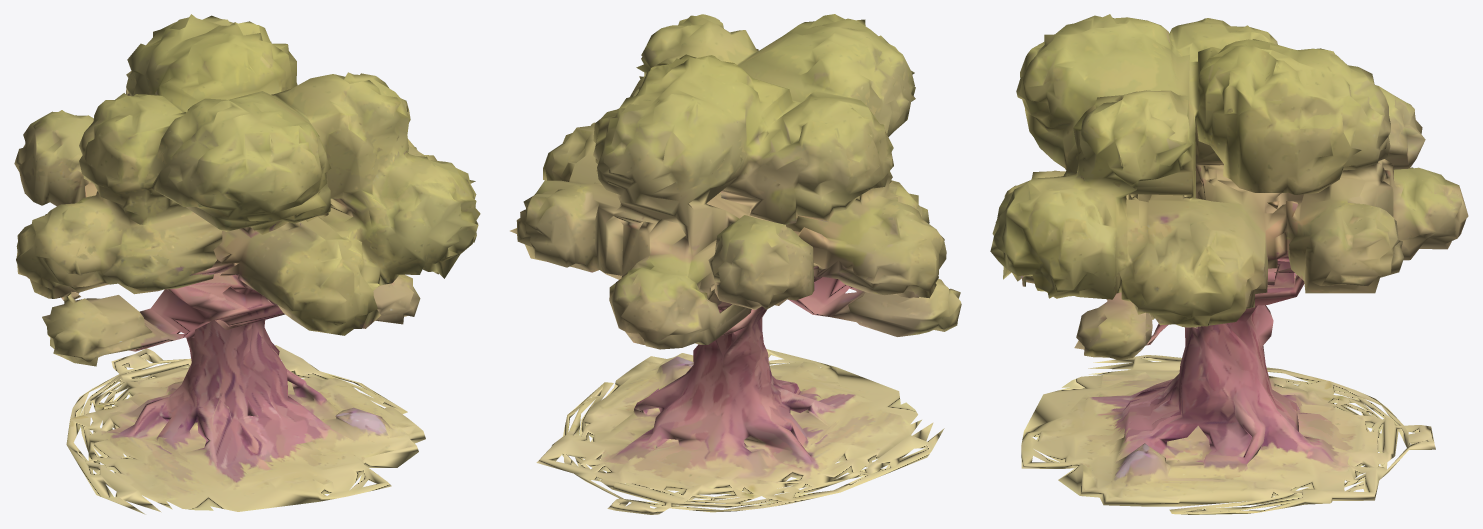
Rendered from gnarled_tree.glb.
3 views of the same model, side by side, from view 1: azimuth 30°, elevation 25°; view 2: azimuth 150°, elevation 25°; view 3: azimuth 270°, elevation 25° (orthographic). The views are drawn at different scales.
Size of the model in its own units: 0.9768 by 0.9109 by 0.9796.
1 material, 1 textured.
